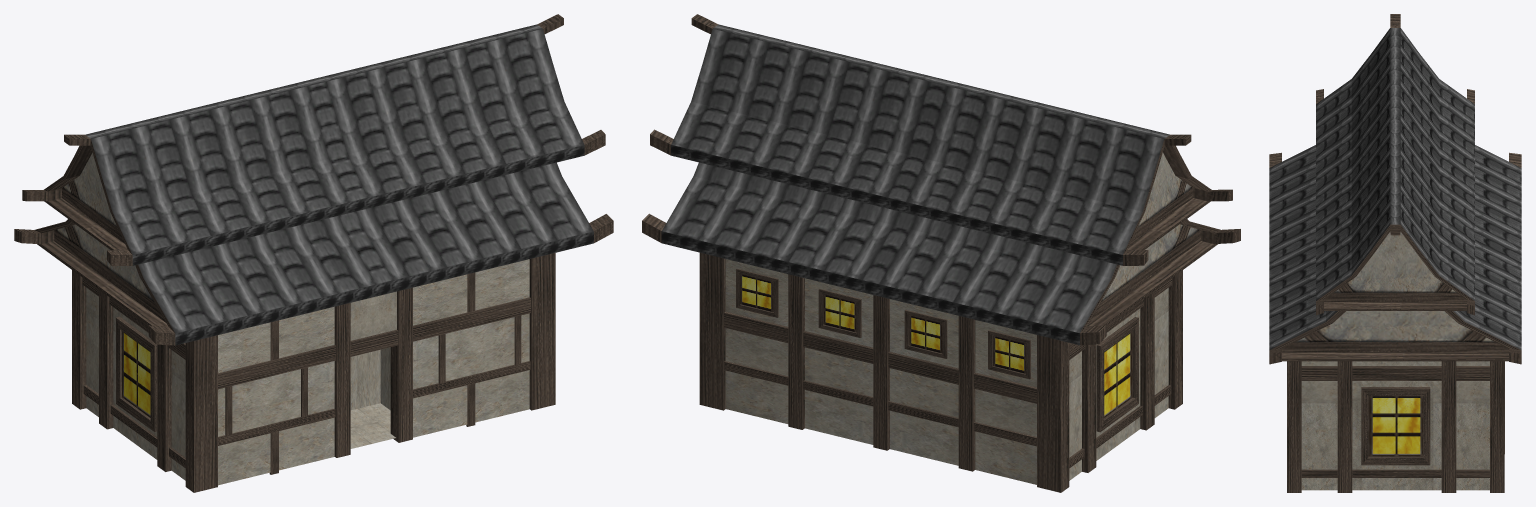
File: templo-c.fbx
3 views of the same model, side by side, from view 1: azimuth 30°, elevation 25°; view 2: azimuth 150°, elevation 25°; view 3: azimuth 270°, elevation 25° (orthographic). The views are drawn at different scales.
Visible parts, largest first — view 1: Cube.000, Cube.001, Cube.002; view 2: Cube.000, Cube.002; view 3: Cube.000, Cube.002.
Part boxes in pixels (box(x1,y1,x2,y2)): Cube.000: box(14, 14, 613, 492); Cube.001: box(350, 347, 395, 448); Cube.002: box(122, 331, 150, 417); Cube.000: box(642, 14, 1240, 492); Cube.002: box(740, 274, 1132, 417); Cube.000: box(1269, 14, 1521, 492); Cube.002: box(1368, 396, 1423, 456).
Bounding box in the file's own units: 9.78 × 6.25 × 4.85.
